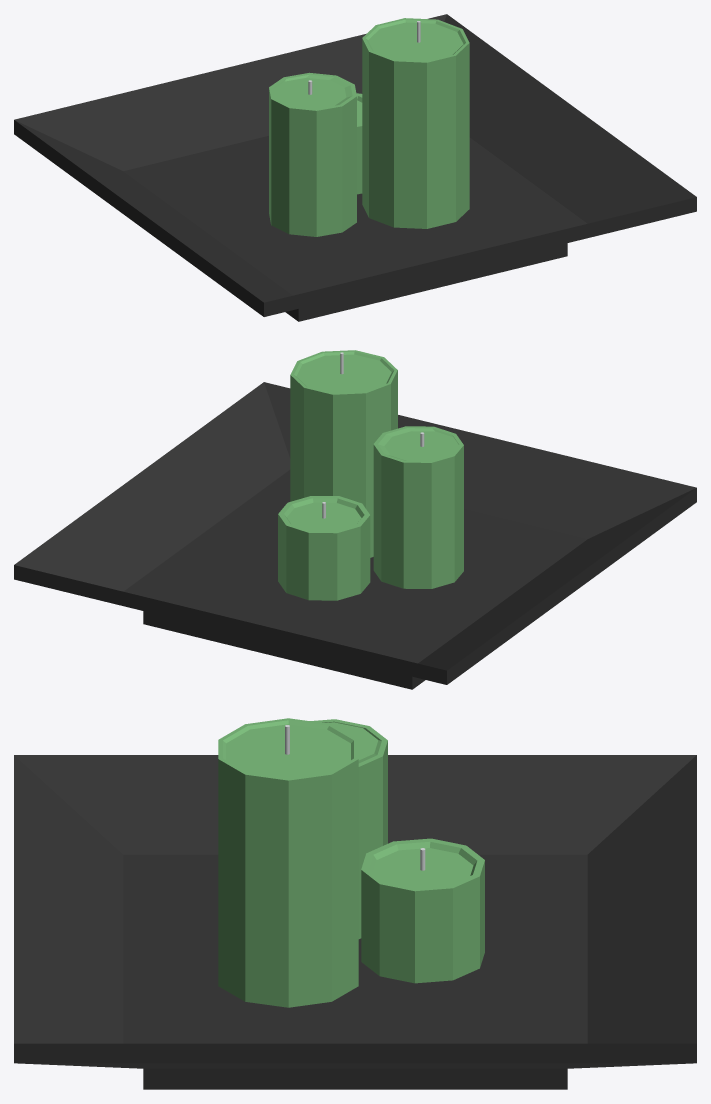
The model's file is tableDecor.fbx.
3 views of the same model, one above another, from view 1: azimuth 30°, elevation 25°; view 2: azimuth 150°, elevation 25°; view 3: azimuth 270°, elevation 25° (orthographic). The views are drawn at different scales.
Visible parts, largest first — view 1: tablePlate, candle1, candle2, candle3; view 2: tablePlate, candle1, candle2, candle3; view 3: tablePlate, candle1, candle3, candle2.
Part boxes in pixels (x1,y1,x2,y2): tablePlate: (14, 14, 696, 321); candle1: (362, 18, 469, 228); candle2: (269, 72, 356, 236); candle3: (356, 93, 362, 194); tablePlate: (14, 382, 696, 689); candle1: (290, 350, 397, 557); candle2: (373, 426, 463, 588); candle3: (278, 496, 370, 600); tablePlate: (14, 755, 696, 1089); candle1: (218, 718, 358, 1007); candle3: (361, 838, 484, 983); candle2: (310, 719, 387, 938).
Bounding box in the file's own units: 0.3162 × 0.1531 × 0.3162.
